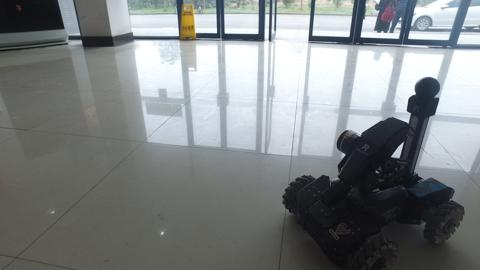car: (394, 1, 480, 31)
chariot: (280, 75, 466, 269)
